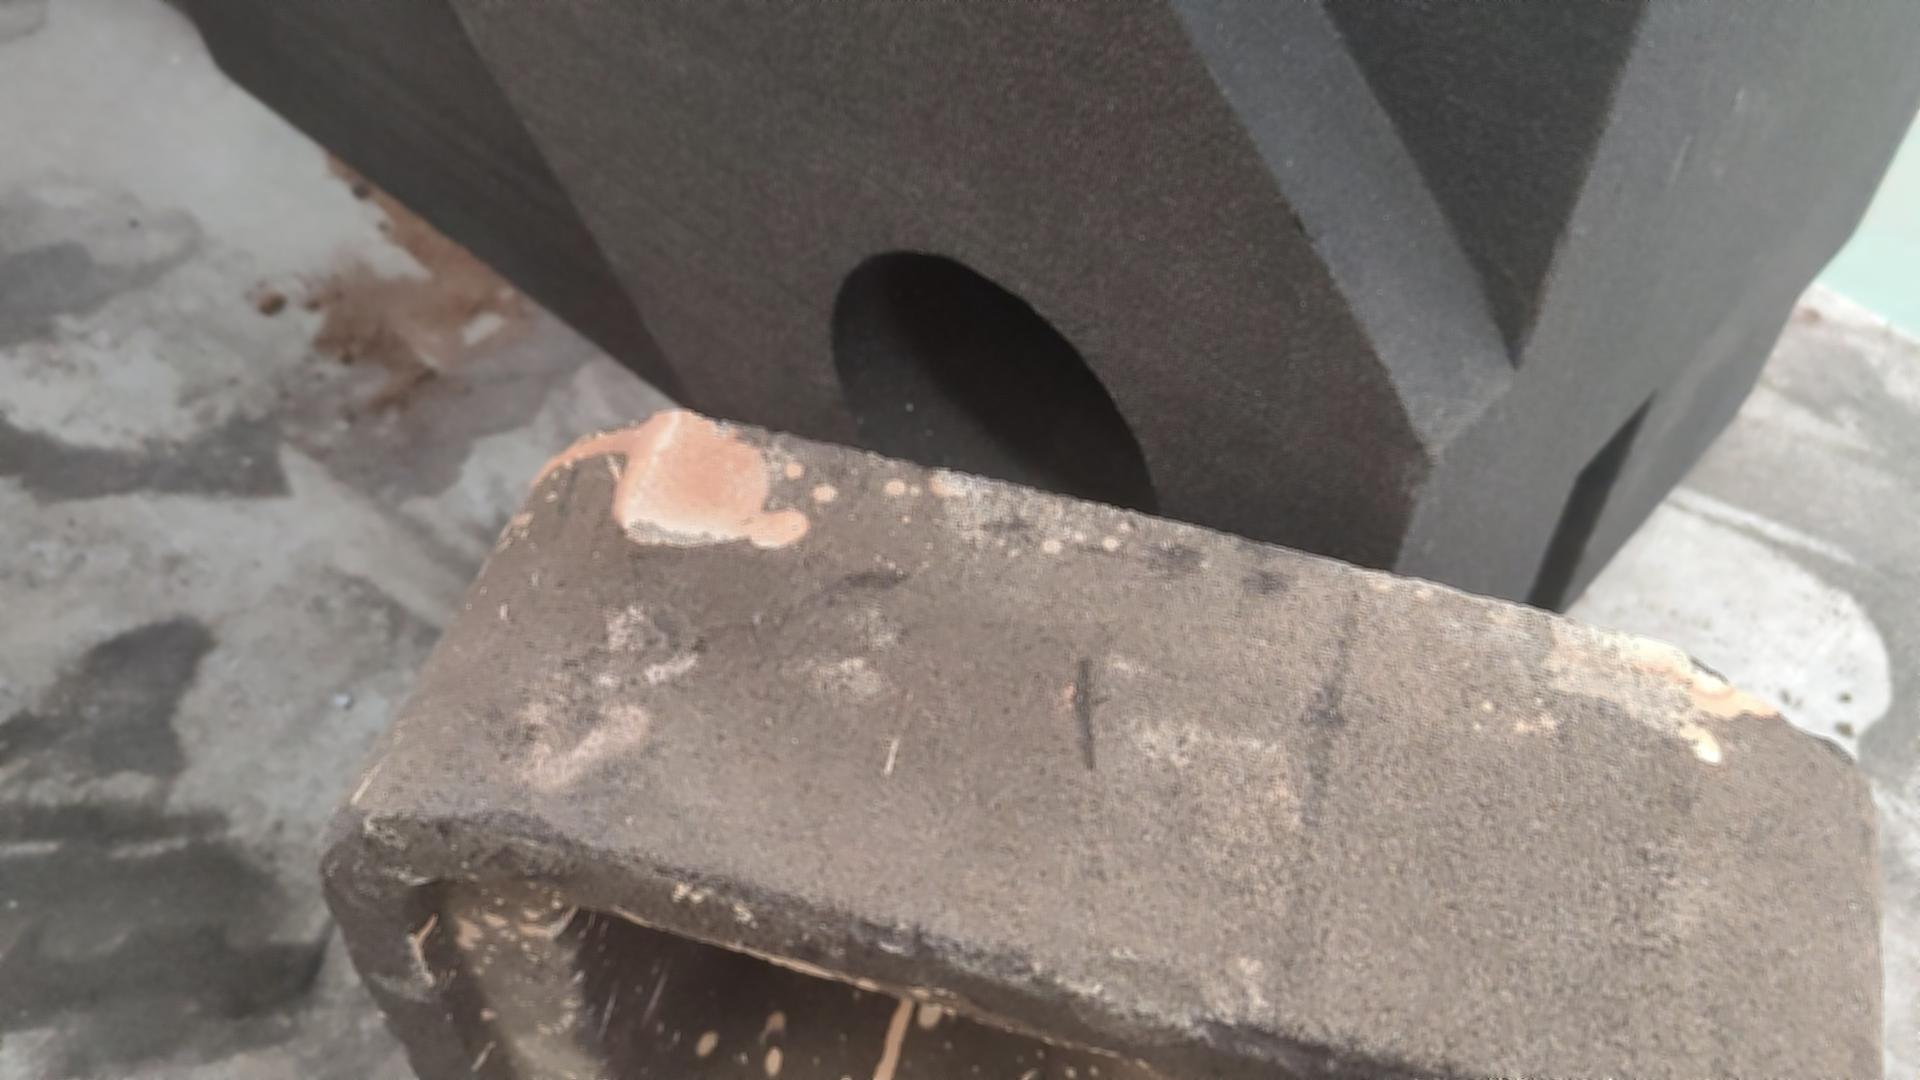pouring hole: (829, 252, 1160, 564)
